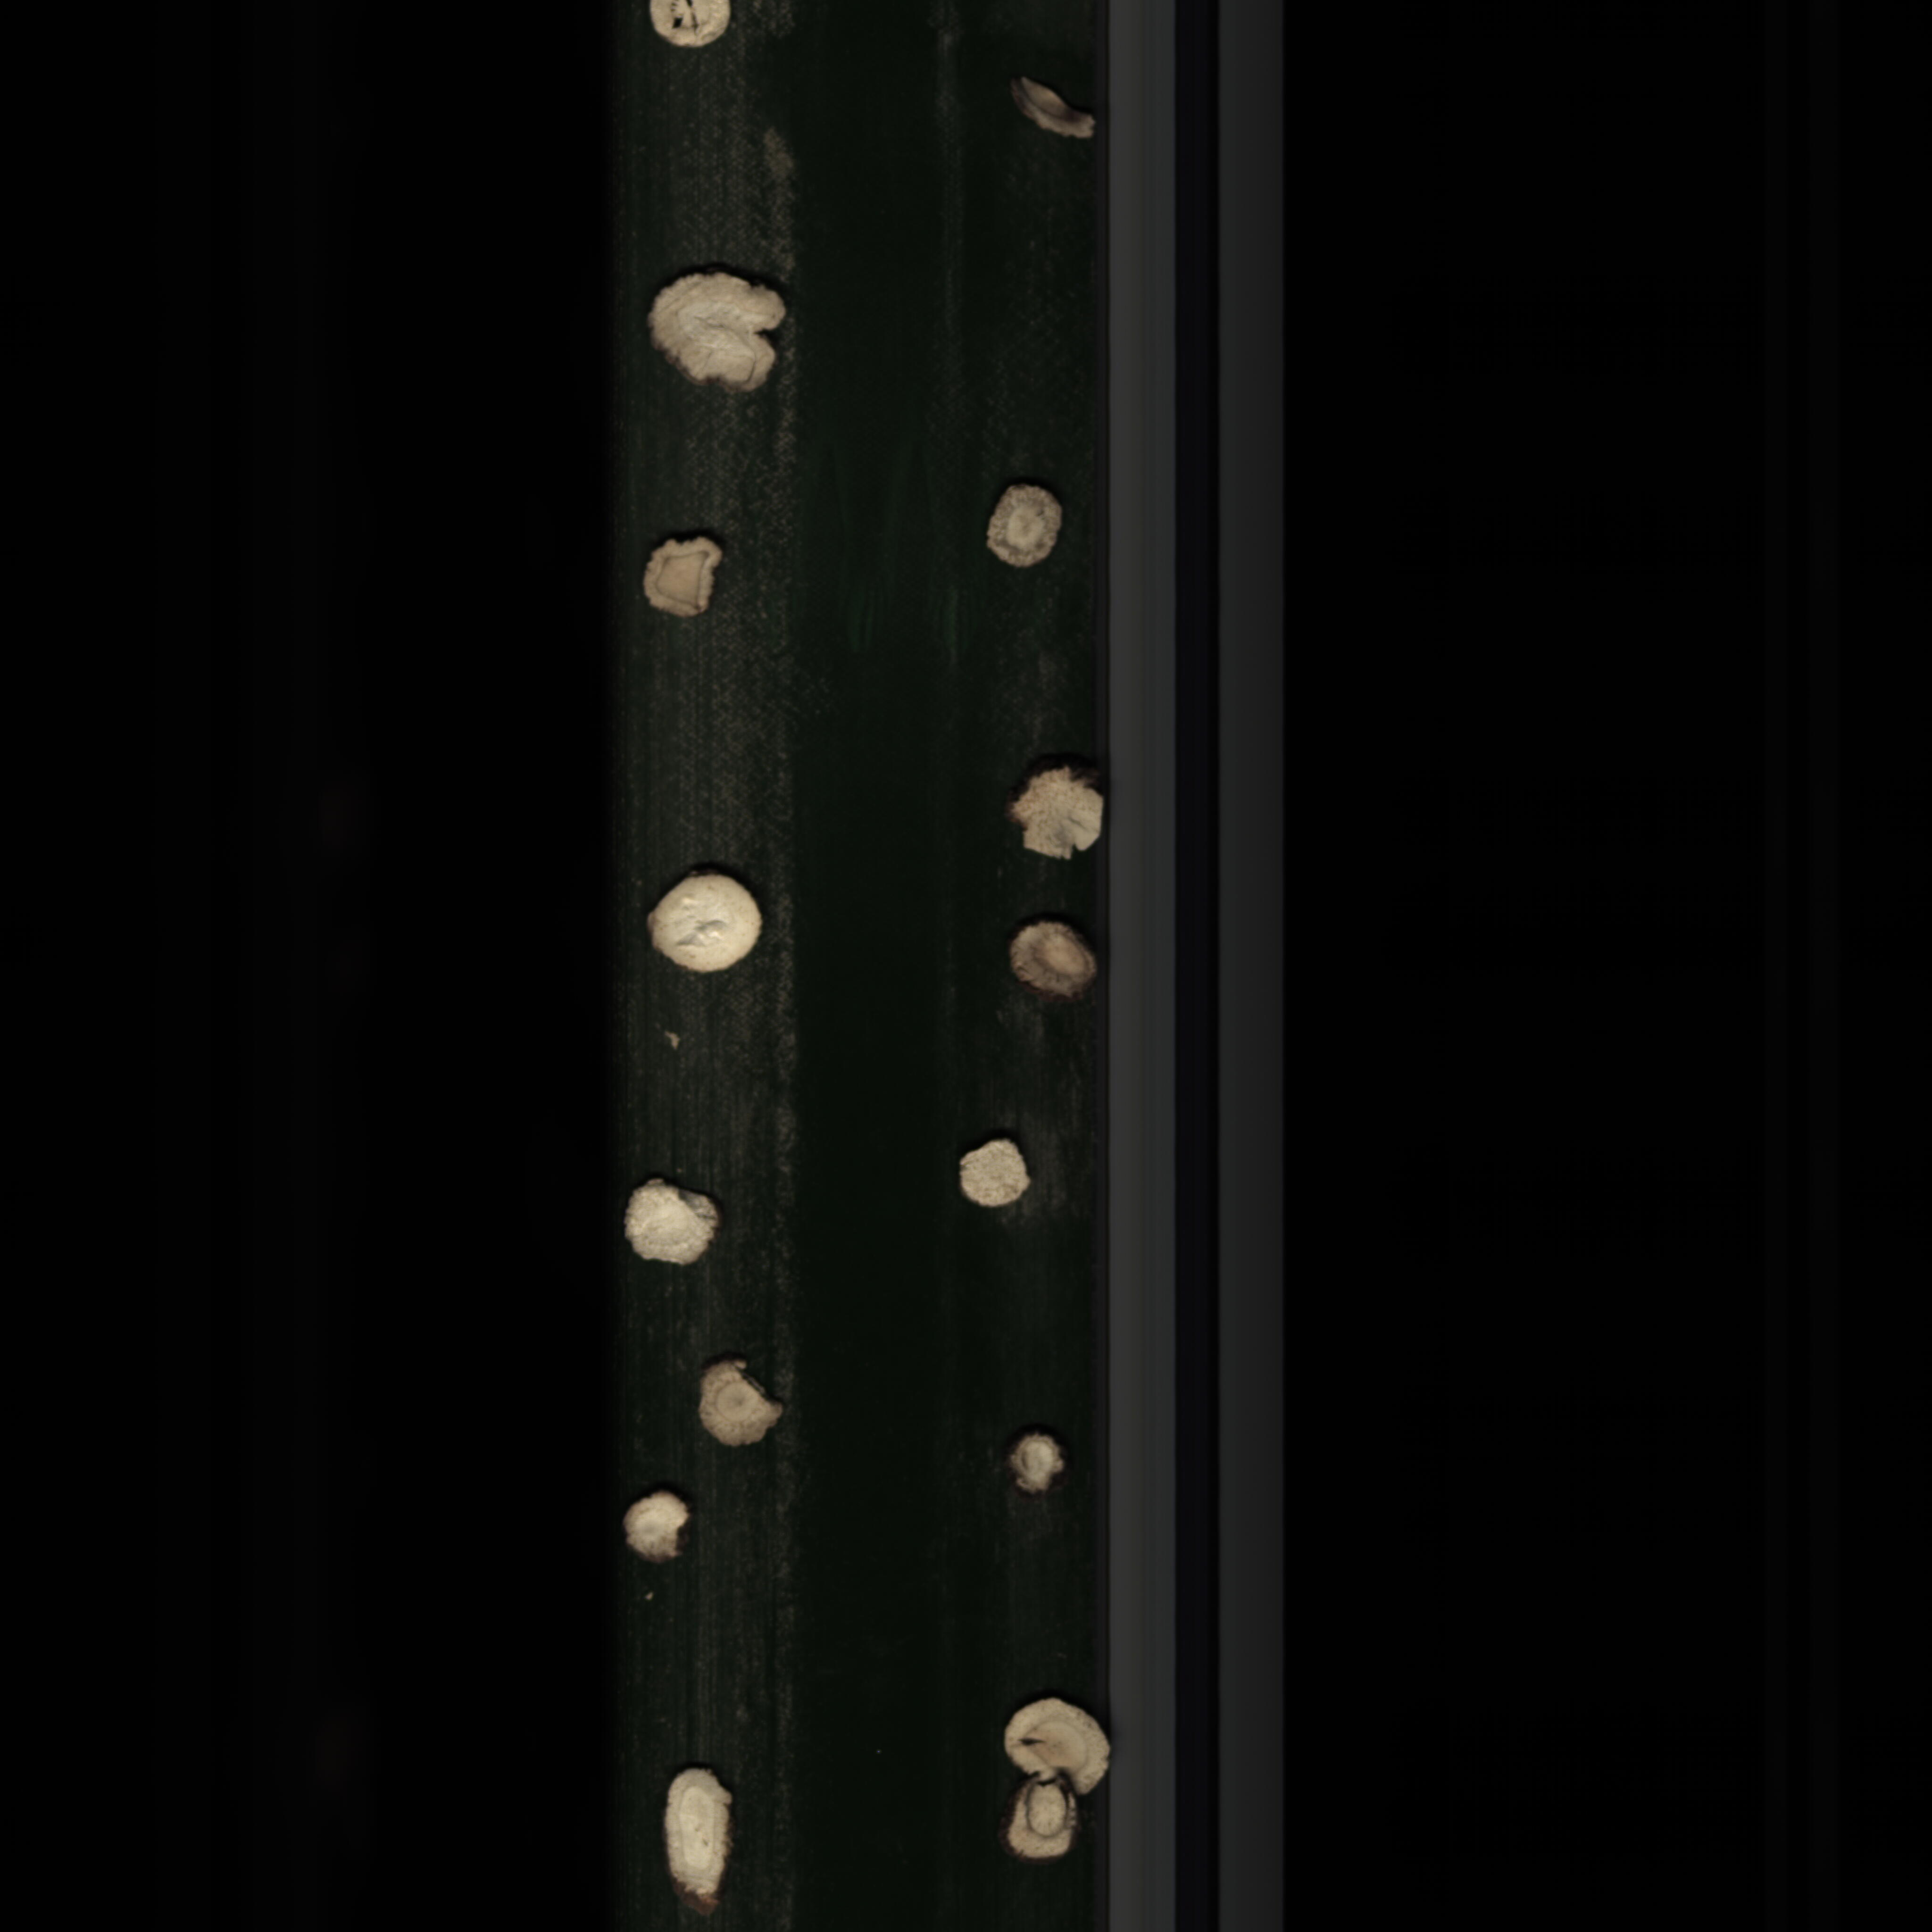bark: (1008, 71, 1100, 156), (1003, 1433, 1076, 1509)
debris: (1003, 754, 1109, 872), (616, 1484, 697, 1569)
distortion: (644, 257, 793, 403)
moldy: (632, 533, 731, 640), (692, 1355, 794, 1454), (998, 909, 1100, 1003), (1007, 1767, 1088, 1870)
